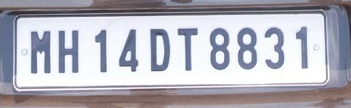1: (93, 27, 113, 74), (295, 26, 310, 69)
3: (262, 26, 285, 70)
4: (119, 28, 142, 73)
8: (235, 26, 260, 71), (208, 27, 231, 69)
D: (148, 28, 173, 73)
H: (57, 30, 83, 74)
M: (27, 30, 54, 74)
T: (177, 27, 200, 72)
